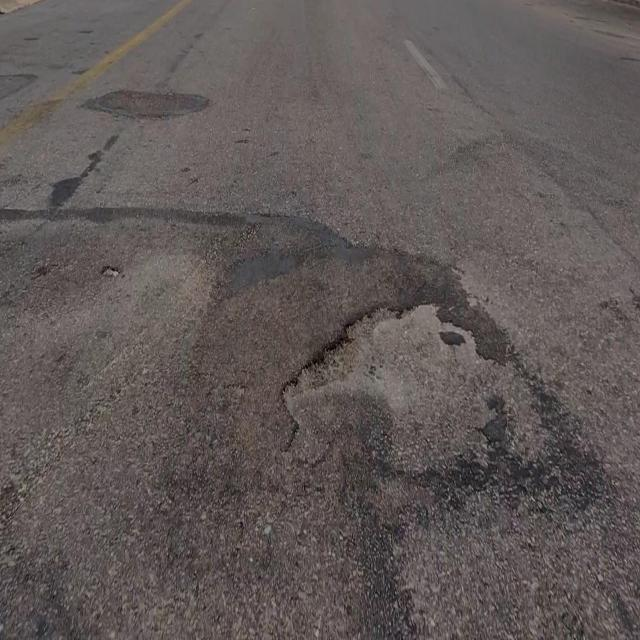Potholes: (279, 300, 550, 479)
